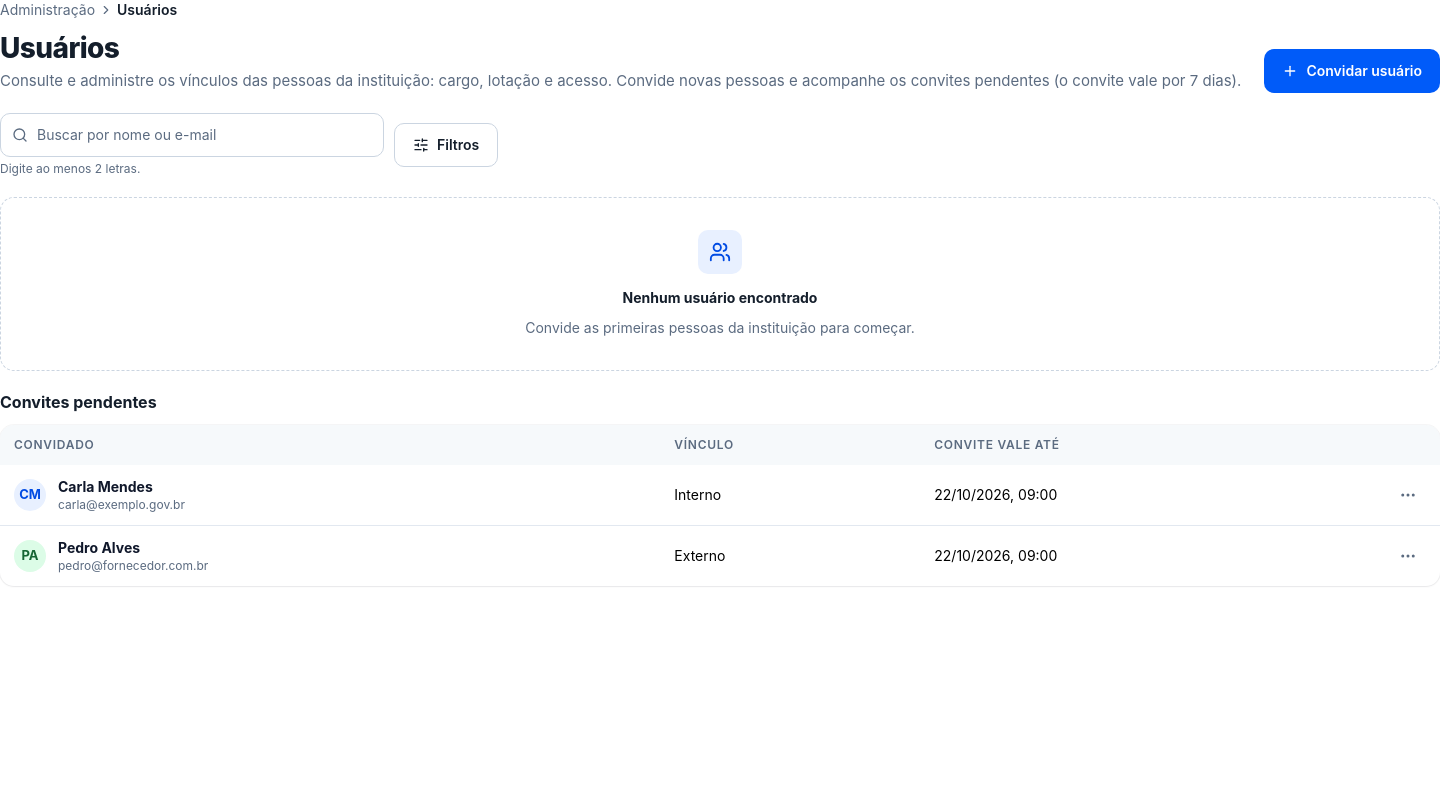
Test case: InviteUserForm (US-091 · USR-03) › [Perfil] sem ROLE_VIEW (403) o campo "Perfil inicial" não aparece
Click the button "Convidar usuário" at (1352, 71), box [1264, 49, 1439, 93]
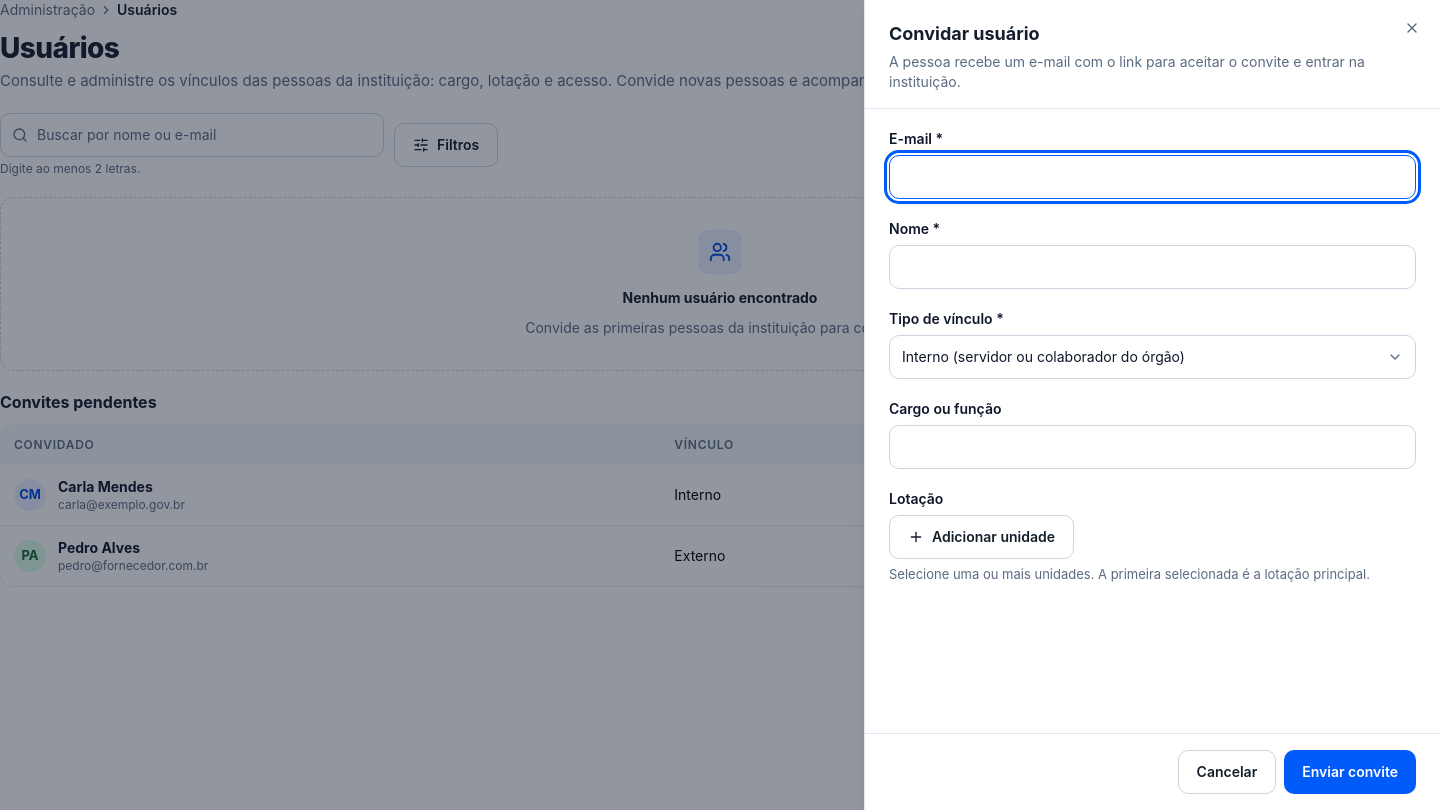
Click the button "Adicionar unidade" at (982, 537), box [889, 515, 1074, 559]
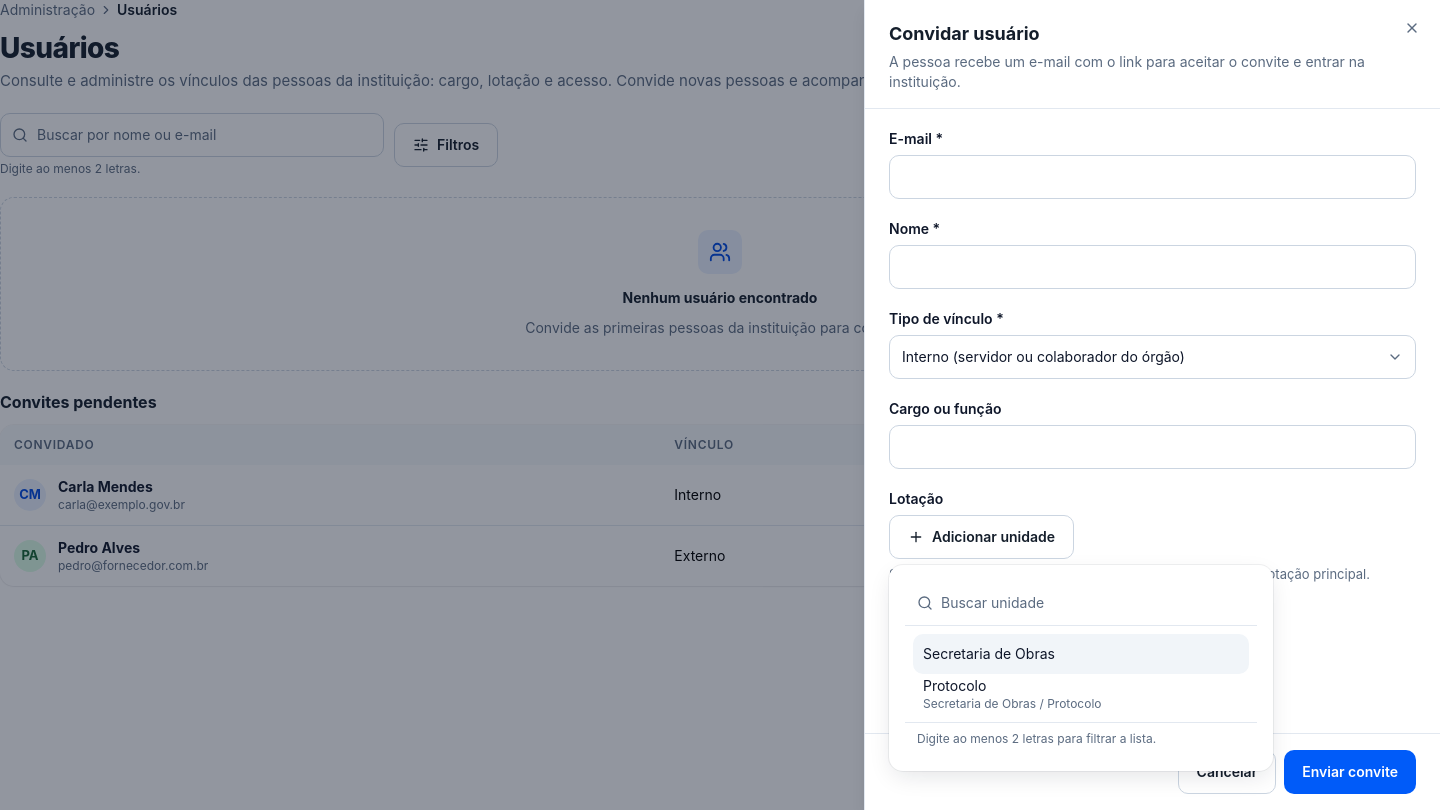
Result: the option "Secretaria de Obras" is shown at [913, 634, 1249, 674]
